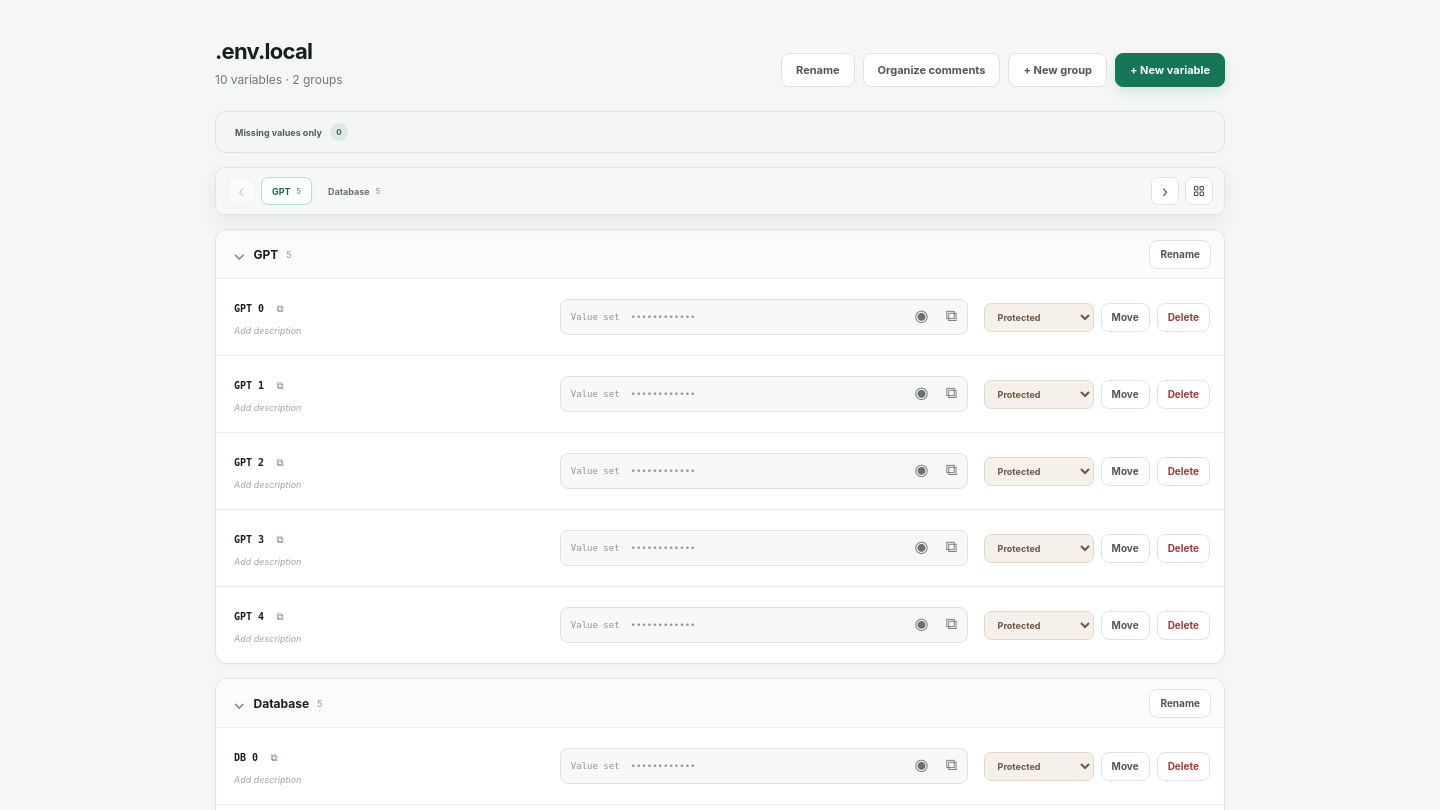
Test: FileEditor › shows sticky group shortcuts only for files with at least ten variables
The image size is (1440, 810).
Expected: the navigation bar named "Jump to environment variable group" is shown, [215,167,1225,215]
Click the button with aria-label "Database · 5": coordinates (354, 191) [317,177,391,205]
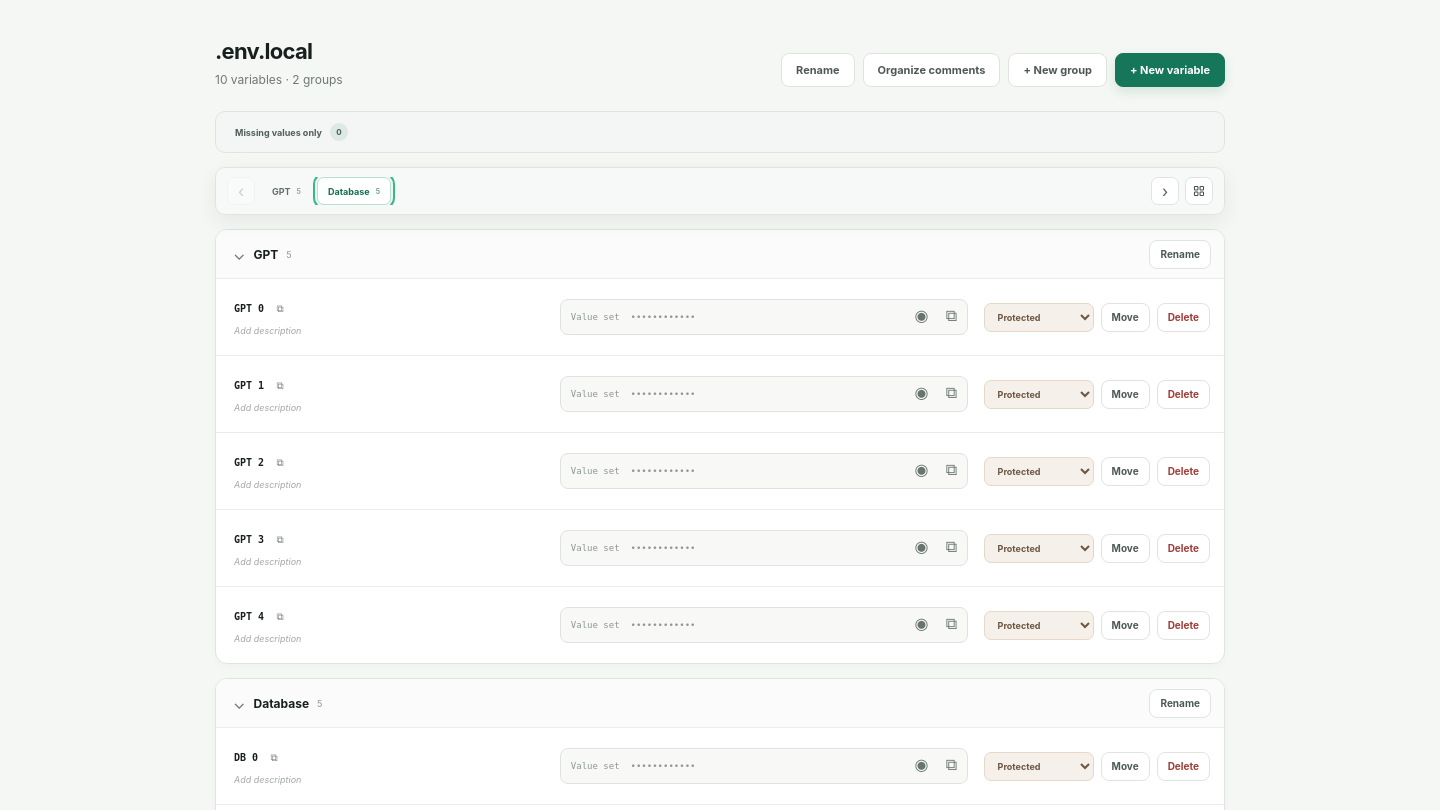
Click the button named "Next groups": coordinates (1165, 191) [1151,177,1179,205]
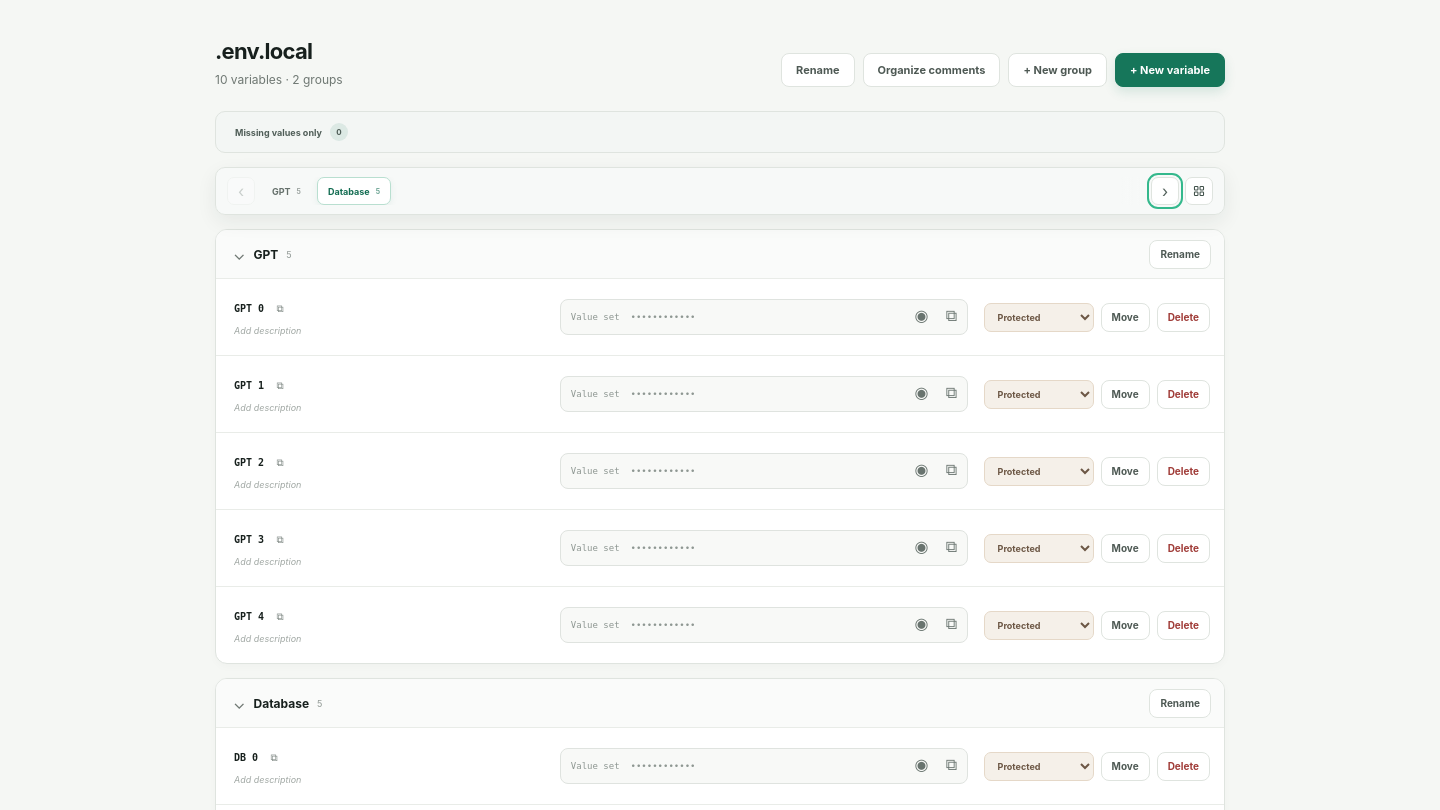
Click the button named "All groups": coordinates (1199, 191) [1185,177,1213,205]
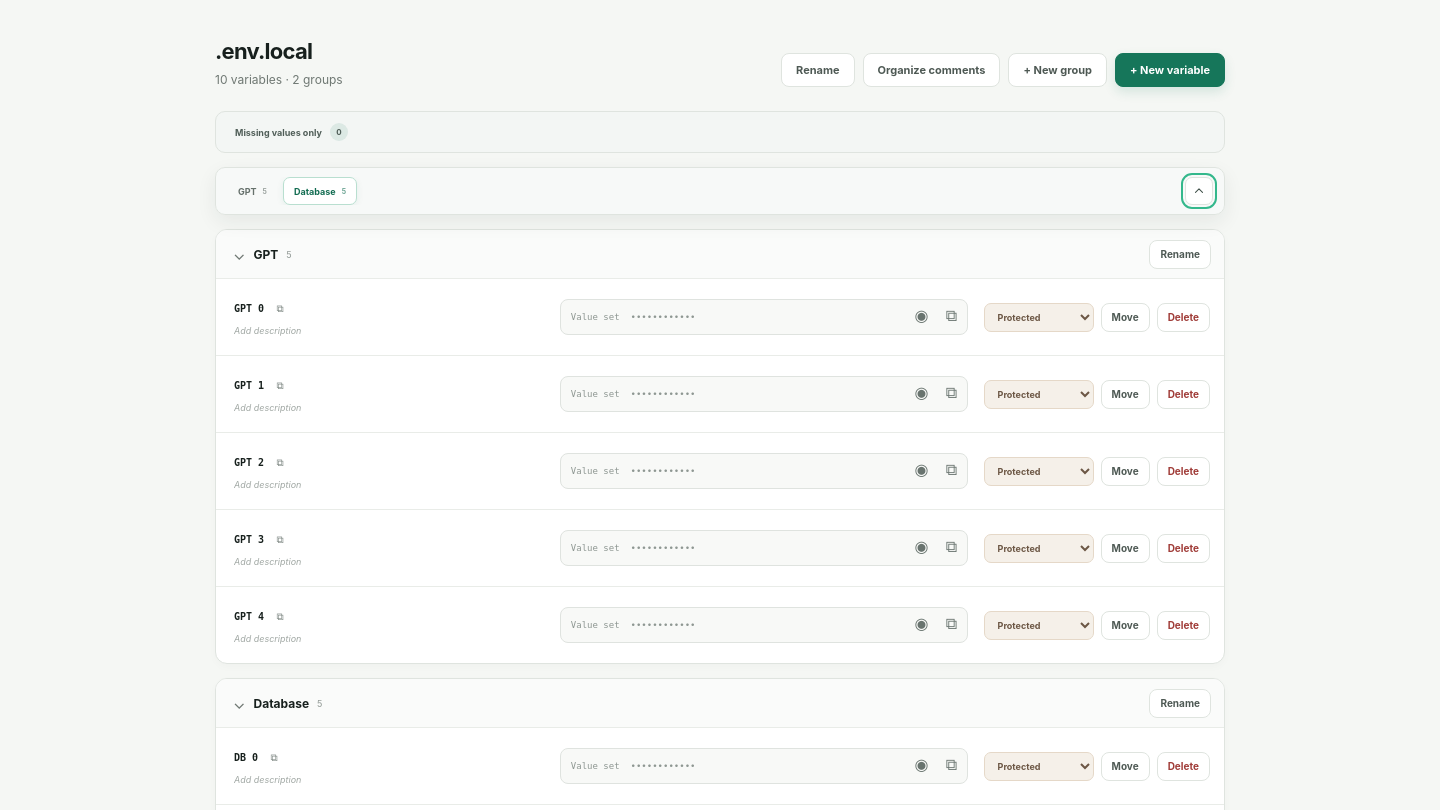
Now the navigation bar named "Jump to environment variable group" has class "expanded", box [215,167,1225,215]
Click the button named "Collapse groups": coordinates (1199, 191) [1185,177,1213,205]
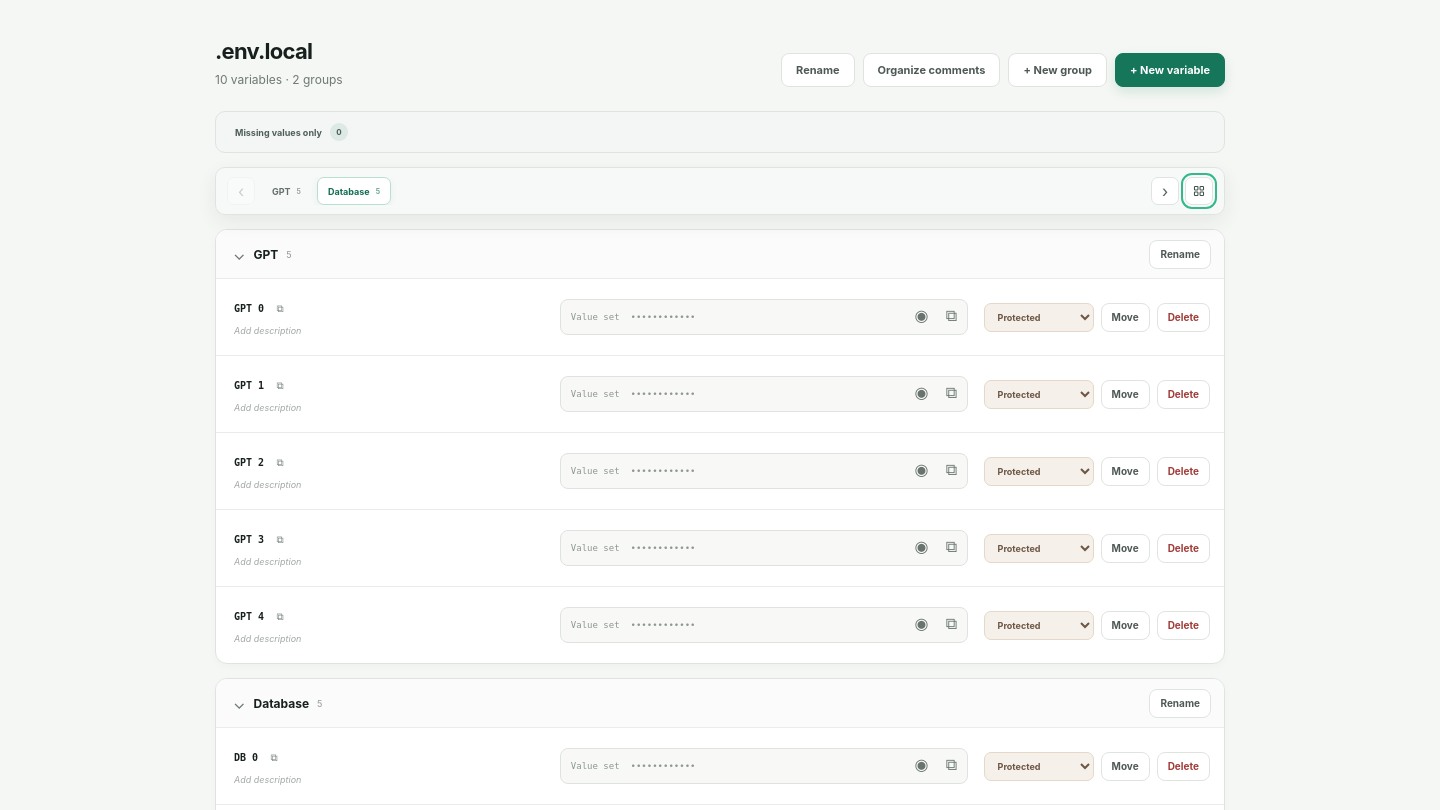
Now the button named "Next groups" is shown, box [1151,177,1179,205]
